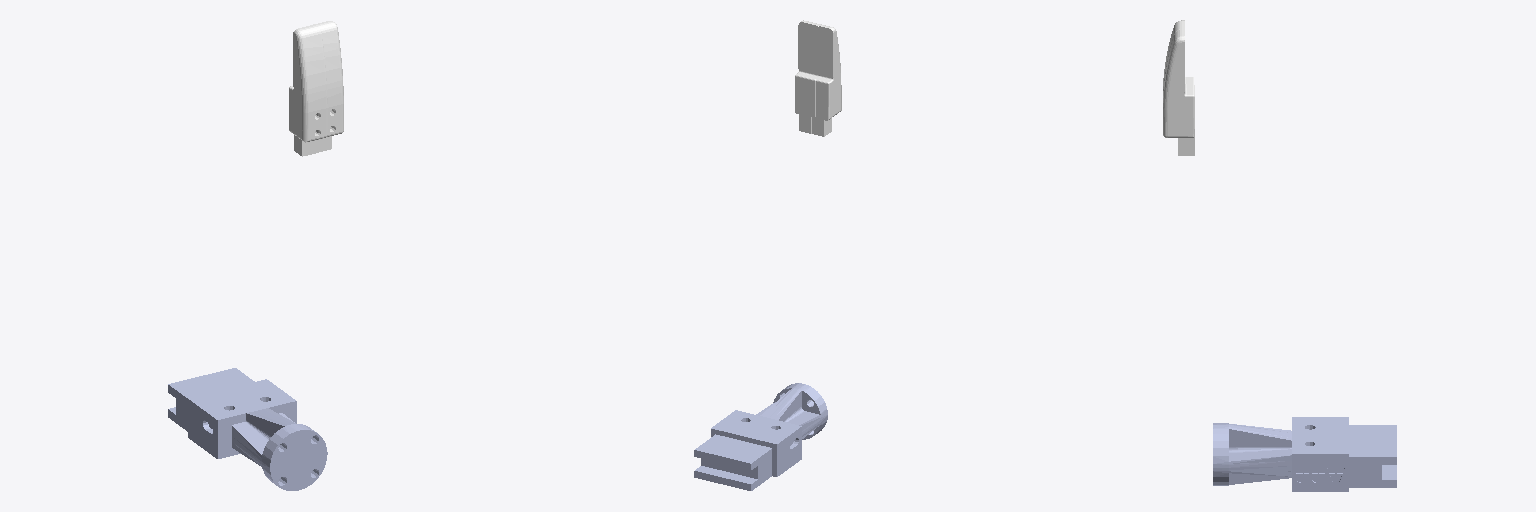
The robot description file, URDF, robot "Simplified ABB Gripper":
<?xml version="1.0" encoding="utf-8"?>
<!-- This URDF was automatically created by SolidWorks to URDF Exporter! Originally created by [author] ([email redacted]) 
     Commit Version: 1.6.0-4-g7f85cfe  Build Version: 1.6.7995.38578
     For more information, please see http://wiki.ros.org/sw_urdf_exporter -->
<robot
  name="Simplified ABB Gripper">
  <link
    name="base_link">
    <inertial>
      <origin
        xyz="-6.16229807088287E-05 0.000397044841007611 0.0601224512562915"
        rpy="0 0 0" />
      <mass
        value="0.11334946311637" />
      <inertia
        ixx="0.000118523378283267"
        ixy="4.05959251897651E-08"
        ixz="2.09444182034886E-07"
        iyy="0.000132170090215626"
        iyz="-1.74630848024325E-06"
        izz="2.68714333136684E-05" />
    </inertial>
    <visual>
      <origin
        xyz="0 0 0"
        rpy="0 0 0" />
      <geometry>
        <mesh
          filename="package://Simplified ABB Gripper/meshes/base_link.STL" />
      </geometry>
      <material
        name="">
        <color
          rgba="0.792156862745098 0.819607843137255 0.933333333333333 1" />
      </material>
    </visual>
    <collision>
      <origin
        xyz="0 0 0"
        rpy="0 0 0" />
      <geometry>
        <mesh
          filename="package://Simplified ABB Gripper/meshes/base_link.STL" />
      </geometry>
    </collision>
  </link>
  <link
    name="ABB_Gripper_Finger_1">
    <inertial>
      <origin
        xyz="4.8407E-07 0.039218 -0.010001"
        rpy="0 0 0" />
      <mass
        value="0.019385" />
      <inertia
        ixx="8.3469E-06"
        ixy="2.3563E-10"
        ixz="8.0656E-11"
        iyy="9.7422E-07"
        iyz="3.9475E-07"
        izz="8.3545E-06" />
    </inertial>
    <visual>
      <origin
        xyz="0 0 0"
        rpy="0 0 0" />
      <geometry>
        <mesh
          filename="package://Simplified ABB Gripper/meshes/ABB_Gripper_Finger_1.STL" />
      </geometry>
      <material
        name="">
        <color
          rgba="1 1 1 1" />
      </material>
    </visual>
    <collision>
      <origin
        xyz="0 0 0"
        rpy="0 0 0" />
      <geometry>
        <mesh
          filename="package://Simplified ABB Gripper/meshes/ABB_Gripper_Finger_1.STL" />
      </geometry>
    </collision>
  </link>
  <joint
    name="ABB_Gripper_Finger_1_Joint"
    type="prismatic">
    <origin
      xyz="-0.003375 0.00175 0.10638"
      rpy="1.5708 0 1.5708" />
    <parent
      link="base_link" />
    <child
      link="ABB_Gripper_Finger_1" />
    <axis
      xyz="0 0 -1" />
    <limit
      lower="0"
      upper="0"
      effort="0"
      velocity="0" />
  </joint>
  <link
    name="ABB_Gripper_Finger_2">
    <inertial>
      <origin
        xyz="4.8407E-07 0.039218 -0.010001"
        rpy="0 0 0" />
      <mass
        value="0.019385" />
      <inertia
        ixx="8.3469E-06"
        ixy="2.3563E-10"
        ixz="8.0656E-11"
        iyy="9.7422E-07"
        iyz="3.9475E-07"
        izz="8.3545E-06" />
    </inertial>
    <visual>
      <origin
        xyz="0 0 0"
        rpy="0 0 0" />
      <geometry>
        <mesh
          filename="package://Simplified ABB Gripper/meshes/ABB_Gripper_Finger_2.STL" />
      </geometry>
      <material
        name="">
        <color
          rgba="1 1 1 1" />
      </material>
    </visual>
    <collision>
      <origin
        xyz="0 0 0"
        rpy="0 0 0" />
      <geometry>
        <mesh
          filename="package://Simplified ABB Gripper/meshes/ABB_Gripper_Finger_2.STL" />
      </geometry>
    </collision>
  </link>
  <joint
    name="ABB_Gripper_Finger_2_Joint"
    type="prismatic">
    <origin
      xyz="0.0038418 0.00175 0.10638"
      rpy="1.5708 0 -1.5708" />
    <parent
      link="base_link" />
    <child
      link="ABB_Gripper_Finger_2" />
    <axis
      xyz="0 0 1" />
    <limit
      lower="0"
      upper="0"
      effort="0"
      velocity="0" />
    <mimic
      joint="ABB_Gripper_Finger_1_Joint"
      multiplier="1"
      offset="0" />
  </joint>
</robot>

--- What the picture shows (computed from the rendered views, not written in the file) ---
3 views of the same robot in one strip: view 1: azimuth 30°, elevation 25°; view 2: azimuth 150°, elevation 25°; view 3: azimuth 270°, elevation 25° (orthographic).
Robot: Simplified ABB Gripper — 3 links, 2 joints (2 prismatic); root link base_link; default pose: every joint at zero.
Links seen in each view (by area): view 1: base_link, ABB_Gripper_Finger_1, ABB_Gripper_Finger_2; view 2: base_link, ABB_Gripper_Finger_1, ABB_Gripper_Finger_2; view 3: base_link, ABB_Gripper_Finger_2.
Boxes of the visible links, bbox=[...] form: base_link: bbox=[168, 368, 327, 490]; ABB_Gripper_Finger_1: bbox=[289, 25, 327, 156]; ABB_Gripper_Finger_2: bbox=[313, 21, 343, 152]; base_link: bbox=[694, 383, 827, 490]; ABB_Gripper_Finger_1: bbox=[811, 24, 841, 136]; ABB_Gripper_Finger_2: bbox=[795, 20, 819, 133]; base_link: bbox=[1213, 417, 1396, 491]; ABB_Gripper_Finger_2: bbox=[1163, 28, 1194, 155].
Size in the robot's own frame: 0.055 by 0.148 by 0.3162 metres.
Meshes: 3 distinct files referenced, 3 mesh visuals loaded (3 binary STL).